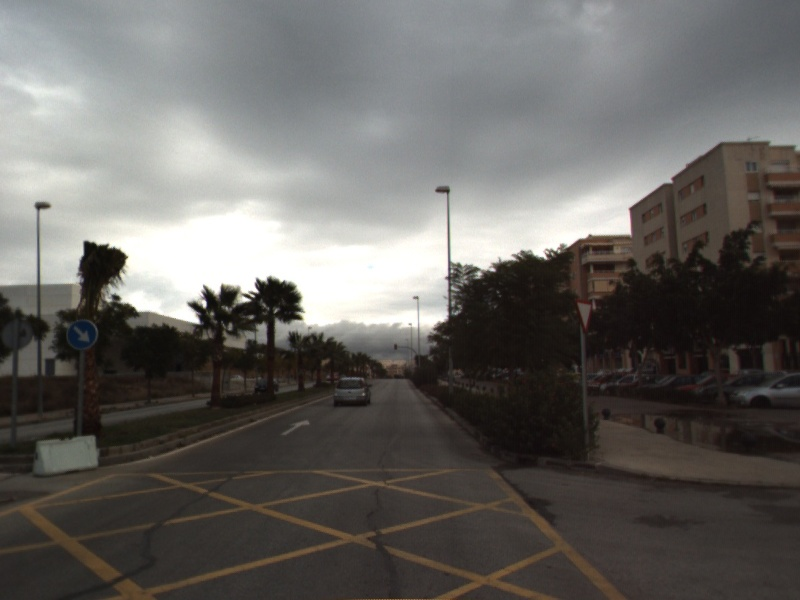STRAIGHT: (279, 417, 312, 437)
